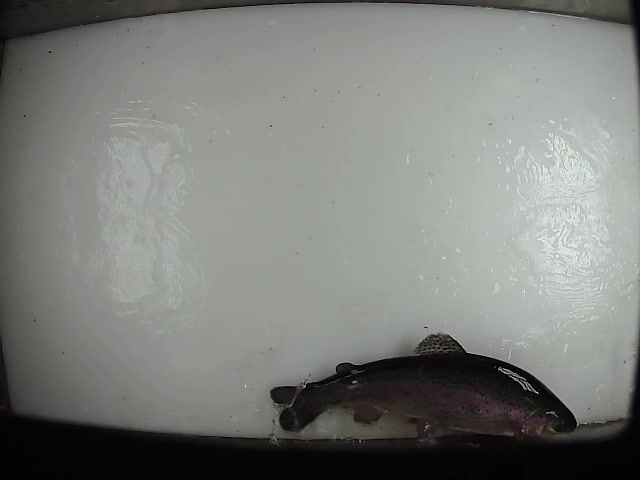fish: (270, 330, 581, 447)
